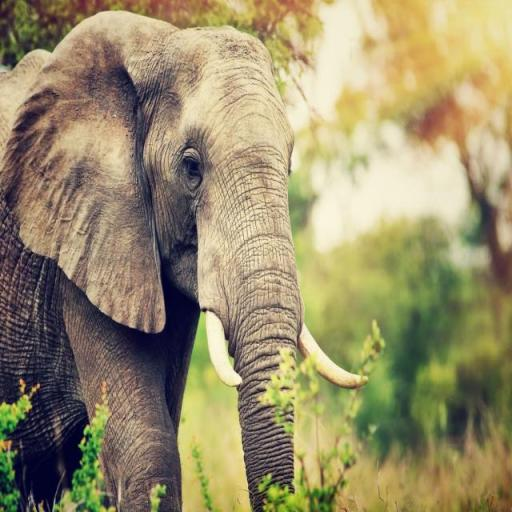Elephant: (0, 8, 369, 511)
